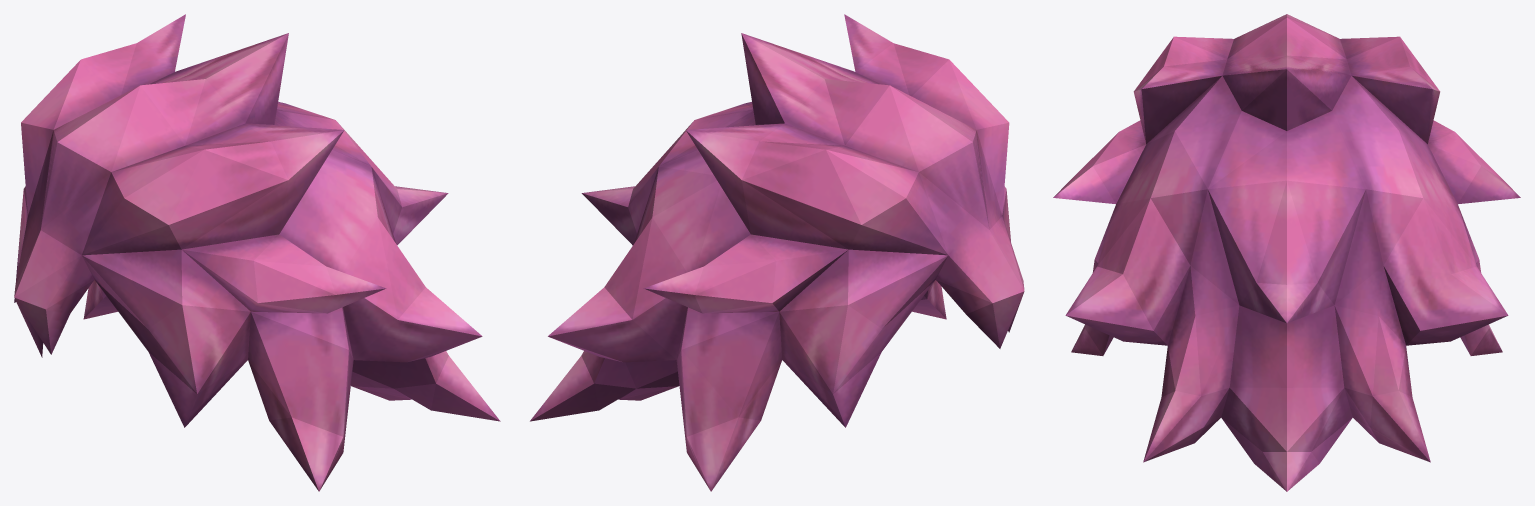
The model's file is Penguin_superStarWig.obj.
3 renders of one model, left to right at view 1: azimuth 30°, elevation 25°; view 2: azimuth 150°, elevation 25°; view 3: azimuth 270°, elevation 25°, orthographic. The views are drawn at different scales.
Parts seen in each view (by area): view 1: Penguin_superStarWig_tri; view 2: Penguin_superStarWig_tri; view 3: Penguin_superStarWig_tri.
Part boxes in pixels (left/top/right/bottom): Penguin_superStarWig_tri: left=14, top=14, right=500, bottom=491; Penguin_superStarWig_tri: left=530, top=14, right=1024, bottom=491; Penguin_superStarWig_tri: left=1053, top=14, right=1520, bottom=491.
Bounding box in the file's own units: 0.4933 × 0.4214 × 0.4967.
Materials: 1 (1 with a texture image).
